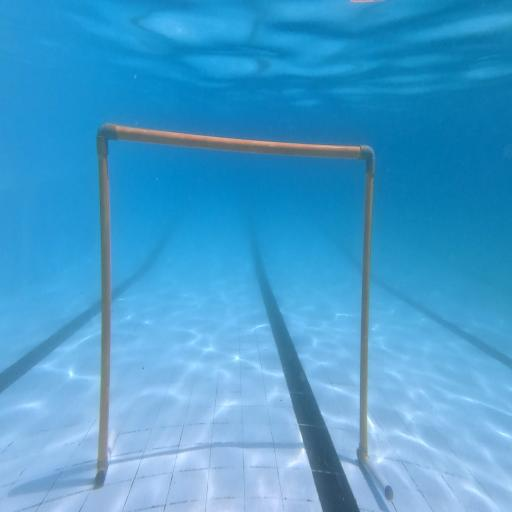gate: (96, 124, 394, 503)
